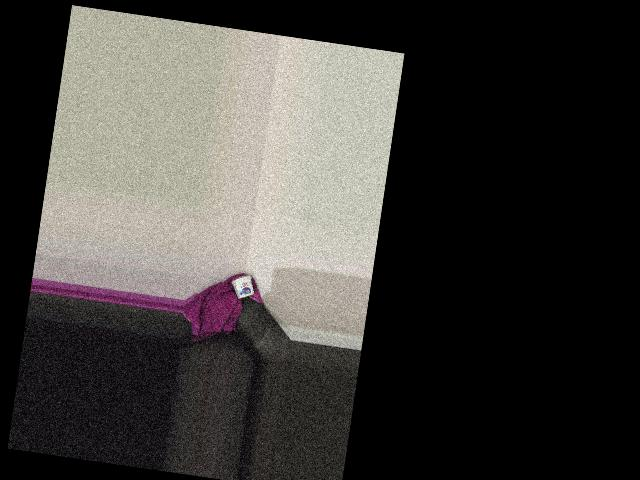cotage: (230, 272, 255, 299)
